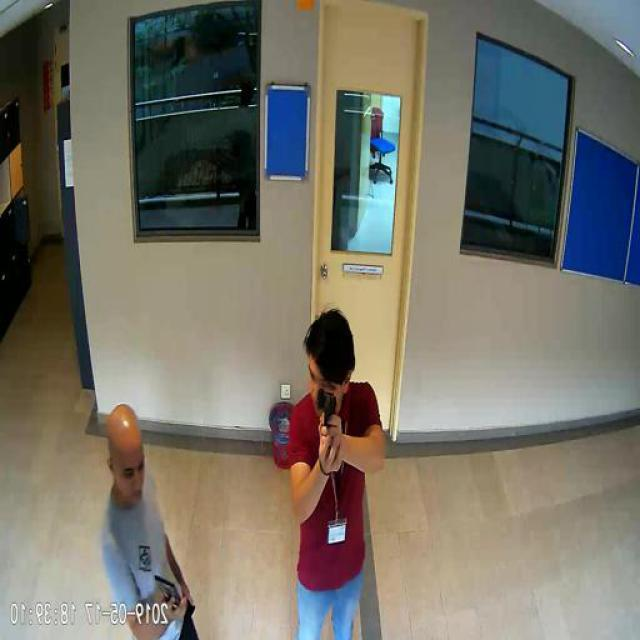Gun: (319, 386, 340, 452)
